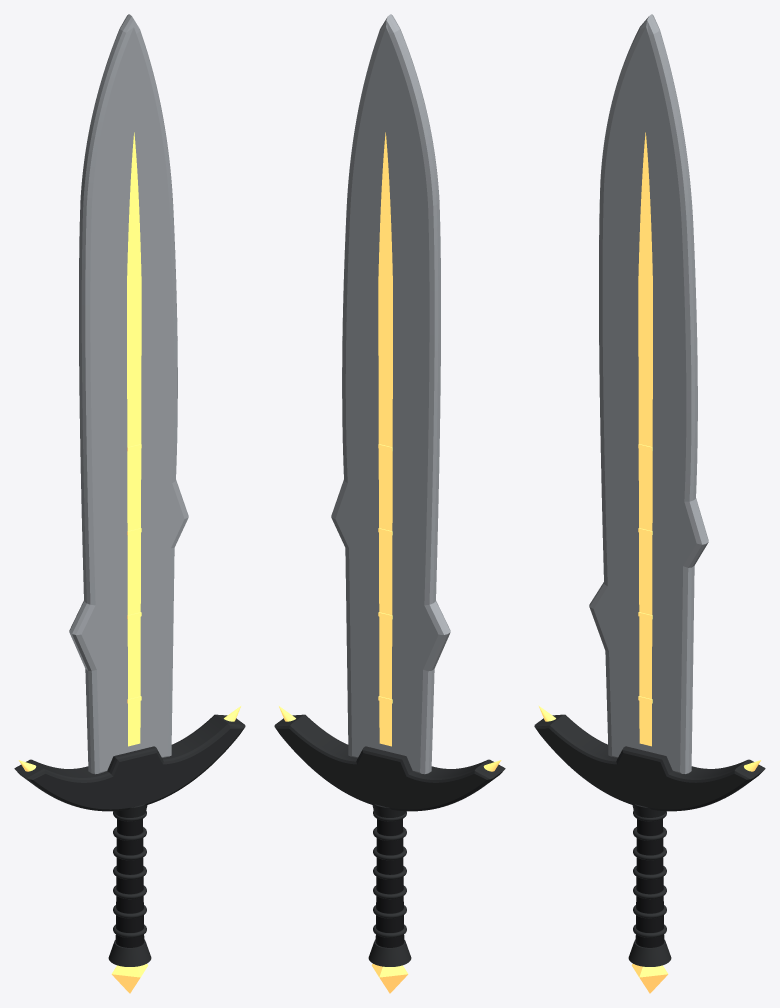
The model's file is Emberfang.glb.
3 views of the same model, side by side, from view 1: azimuth 30°, elevation 25°; view 2: azimuth 150°, elevation 25°; view 3: azimuth 330°, elevation 25° (orthographic).
Parts seen in each view (by area): view 1: blade, guard, fullerFront, grip, pommelCollar, pommelGem; view 2: blade, guard, fullerBack, grip, pommelCollar, pommelGem; view 3: blade, guard, fullerFront, grip, pommelCollar, pommelGem.
Part boxes in pixels (x1,y1,x2,y2): blade: (69, 14, 188, 774); guard: (14, 714, 245, 811); fullerFront: (127, 132, 141, 746); grip: (115, 819, 144, 947); pommelCollar: (108, 939, 151, 966); pommelGem: (111, 964, 148, 993); blade: (331, 14, 450, 774); guard: (274, 714, 505, 811); fullerBack: (378, 132, 392, 746); grip: (375, 819, 404, 947); pommelCollar: (368, 939, 411, 966); pommelGem: (371, 964, 408, 993); blade: (589, 14, 708, 773); guard: (534, 714, 765, 811); fullerFront: (638, 132, 652, 746); grip: (635, 819, 664, 947); pommelCollar: (628, 939, 671, 966); pommelGem: (631, 964, 668, 993).
Bounding box in the file's own units: 0.3611 × 1.51 × 0.06.
